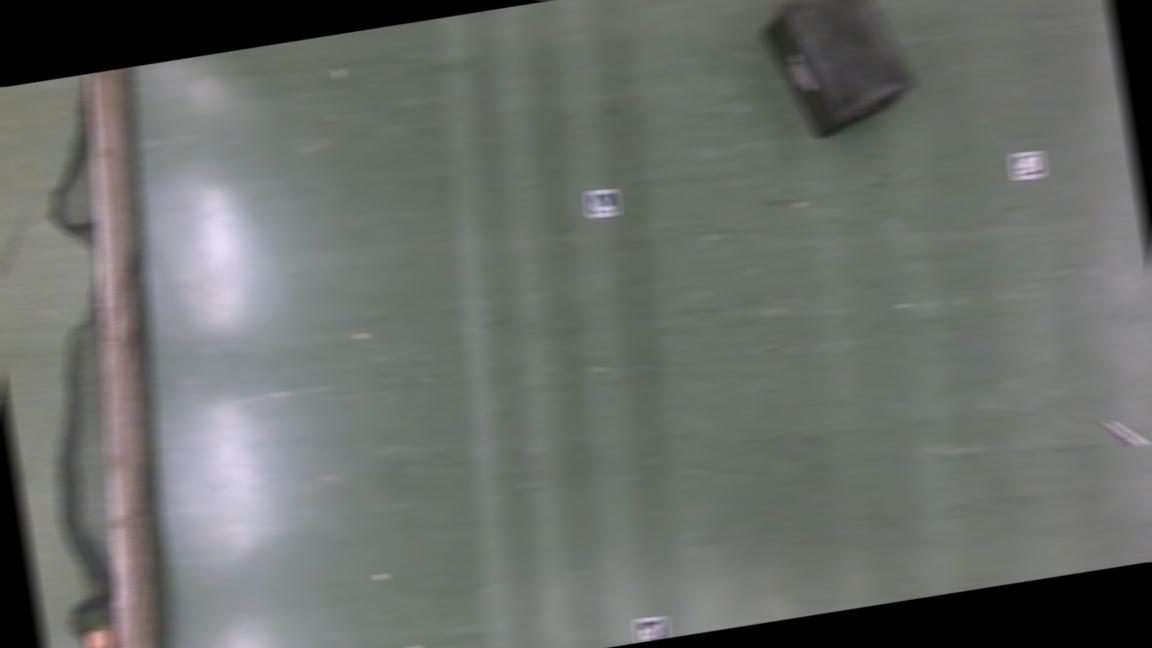probes: (1099, 412, 1147, 451)
rako: (755, 0, 922, 143)
